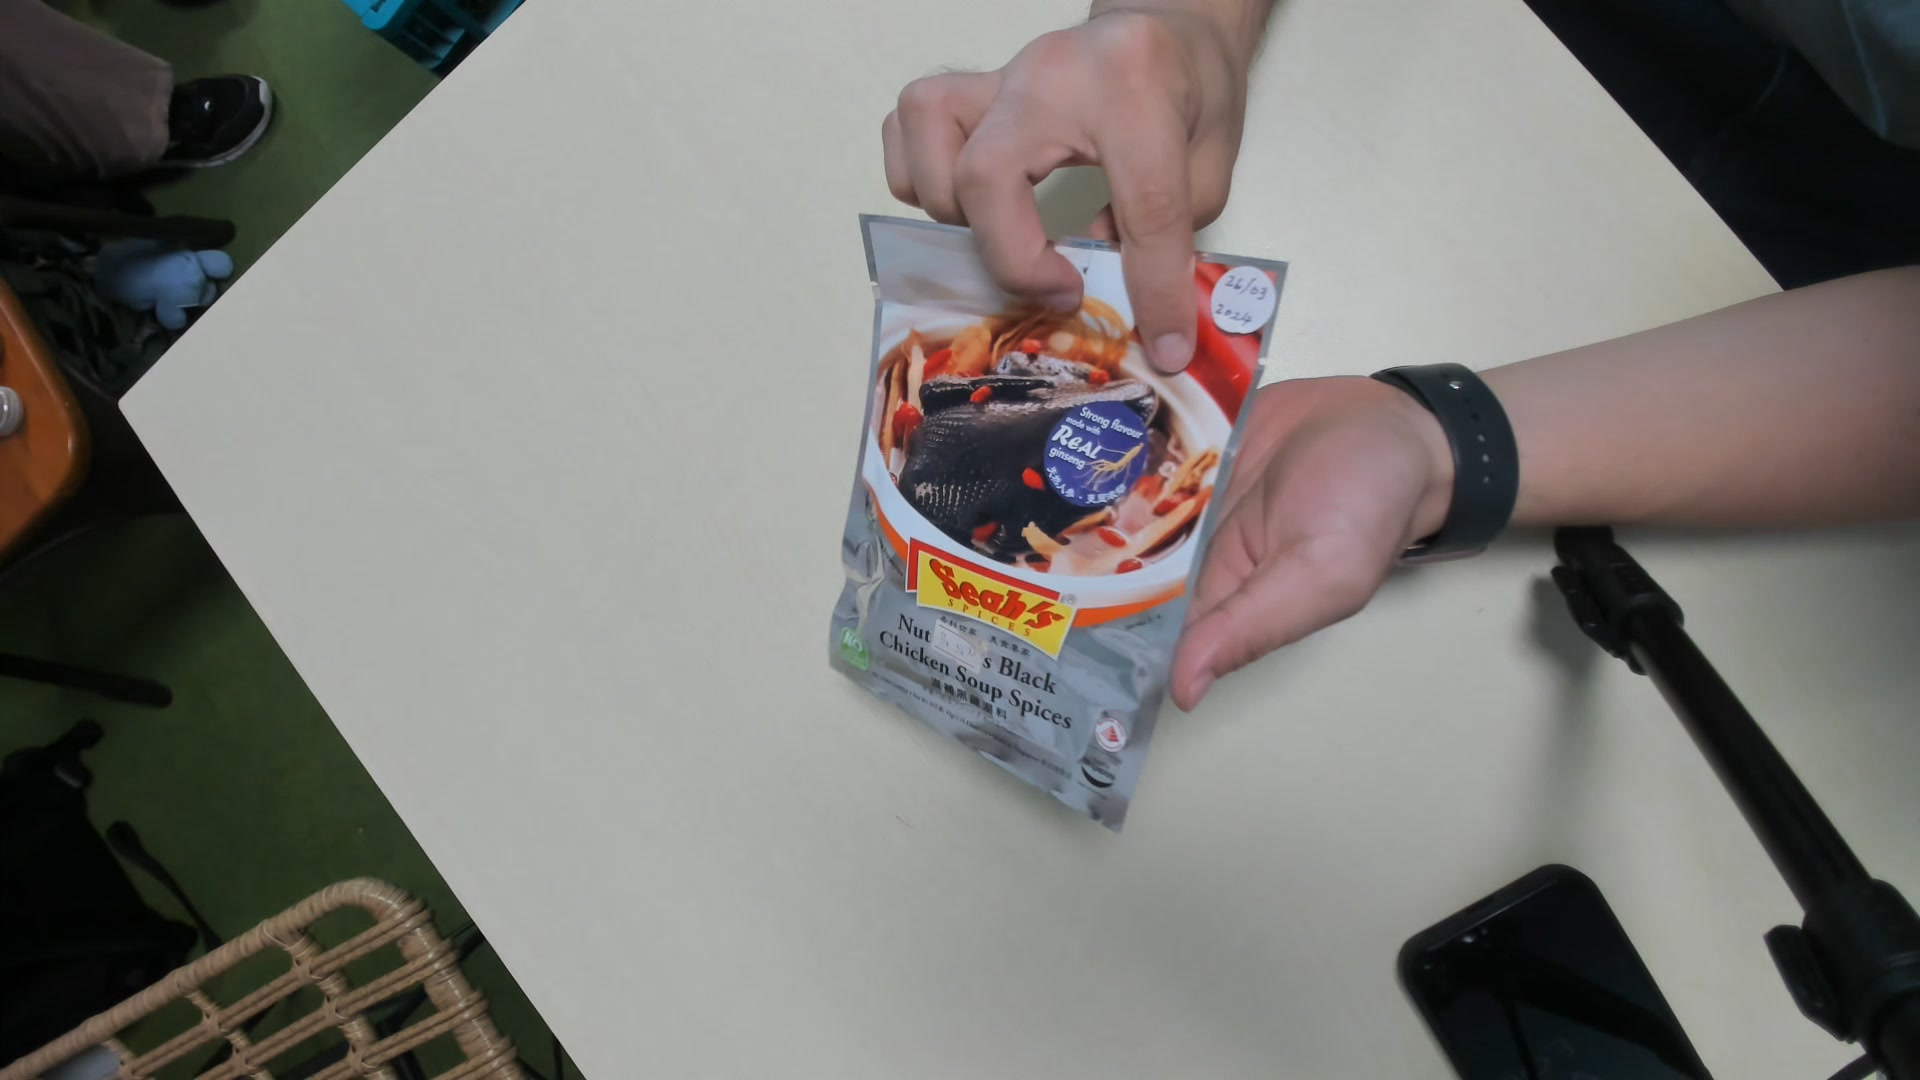OtherSauceDressing_0-99g_NonHalal_NonHealthy: (827, 208, 1284, 837)
